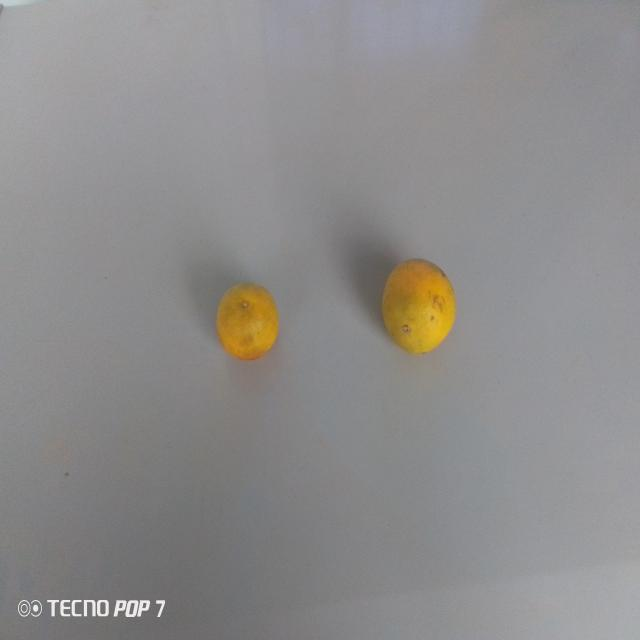Ripe orange: (379, 248, 459, 365), (201, 264, 282, 375)
